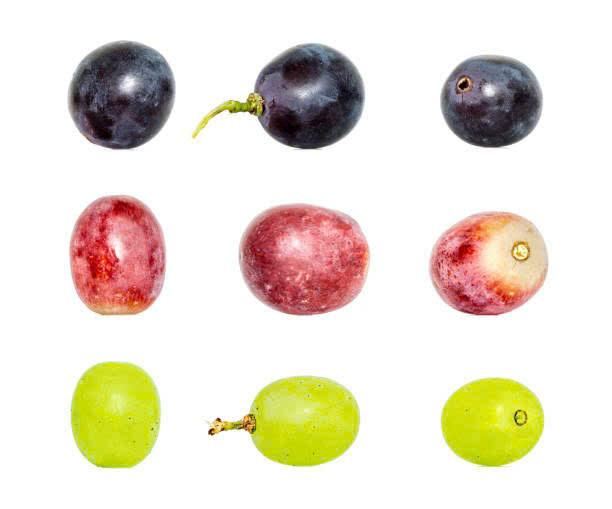grape: (200, 26, 383, 176), (221, 189, 383, 336), (201, 364, 373, 489), (60, 189, 178, 335), (419, 190, 545, 319), (427, 369, 572, 479), (429, 42, 554, 164), (59, 35, 182, 147), (70, 352, 168, 480)
